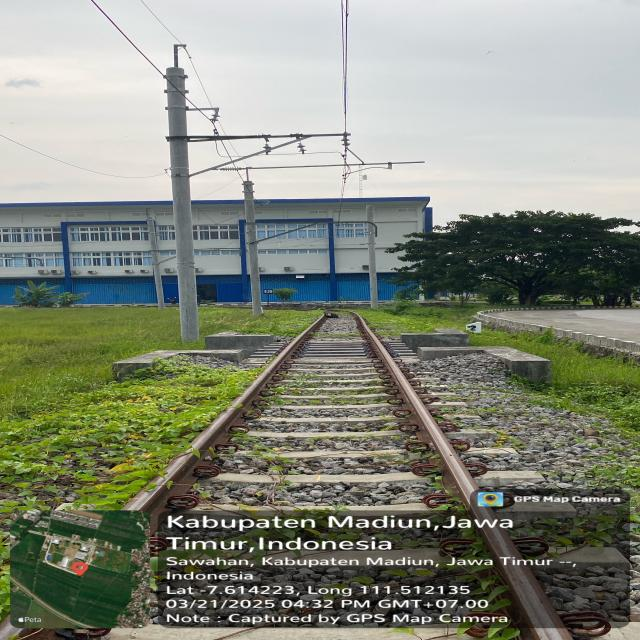rail-detection: (351, 313, 496, 521), (191, 317, 326, 451), (480, 524, 570, 640), (122, 452, 207, 534)
